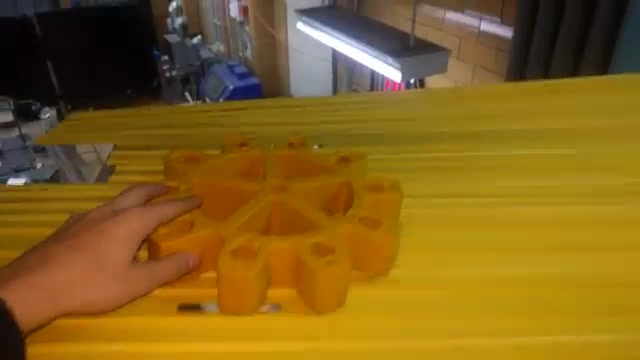gear: (118, 131, 413, 315)
